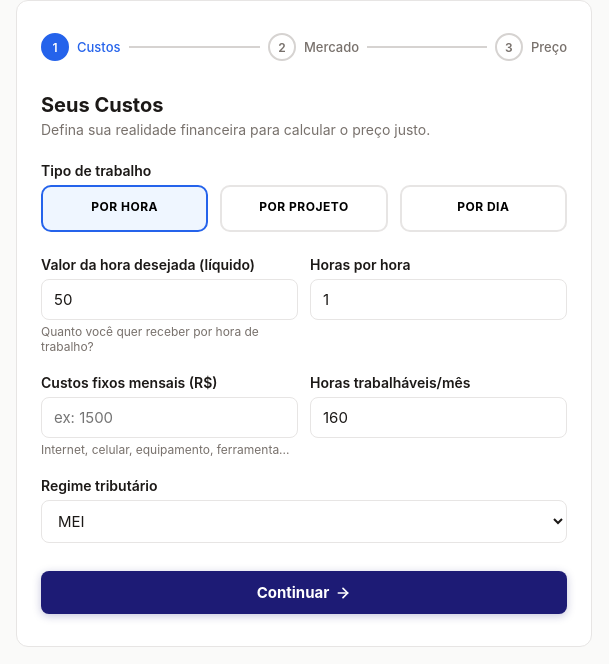
Test: Calculator › advances to step 3 (Preço)
Step 1. Click the button "Continuar" → (304, 592), box [41,571,567,614]
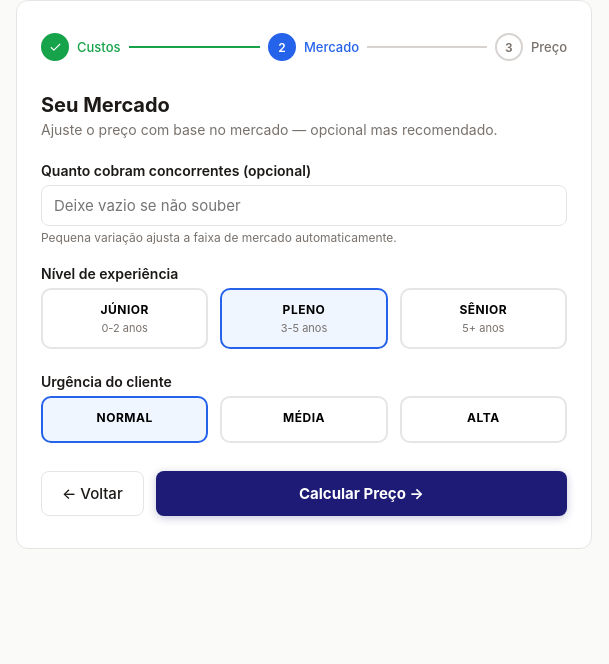
Step 2. Click the button "Calcular Preço →" → (361, 494), box [156,471,567,516]
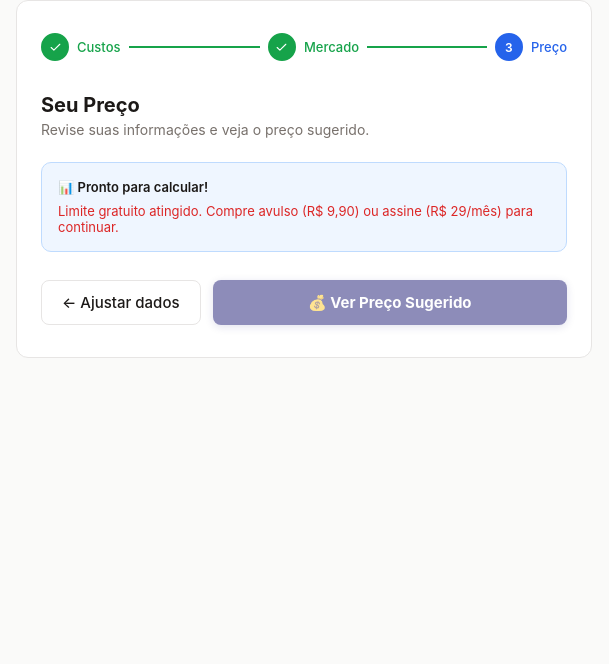
expect the heading "Seu Preço" is shown: met, box [41,93,140,117]
